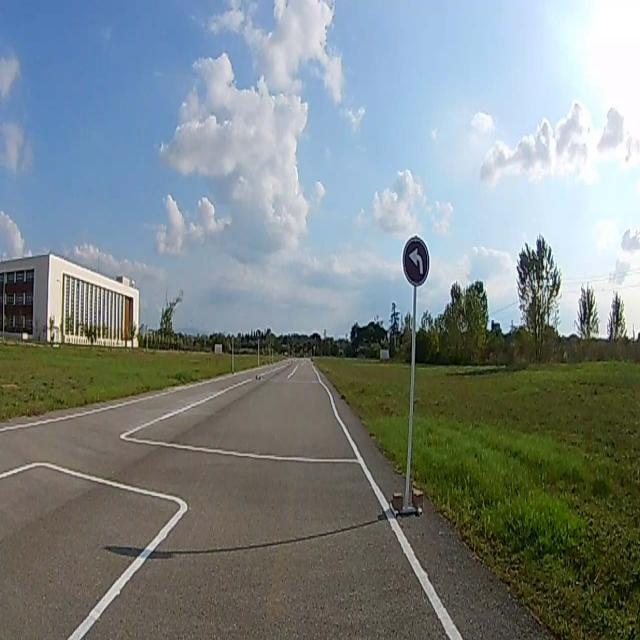sol: (401, 237, 431, 287)
